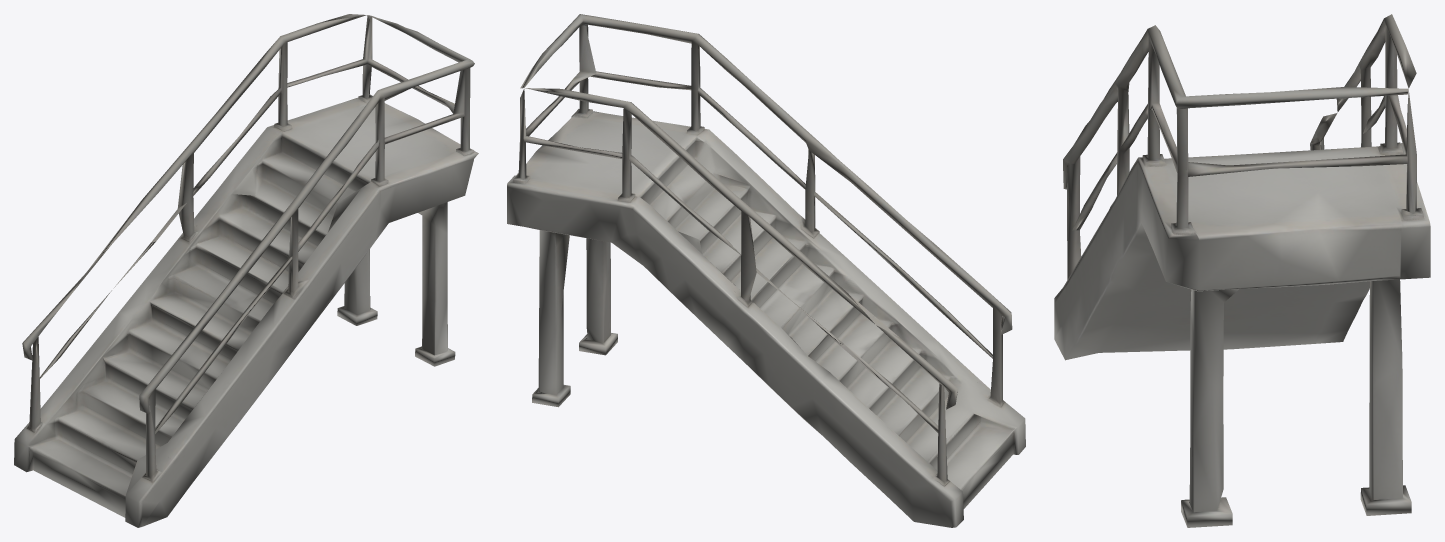
The model's file is ENV_ALL_039_v001_RAW.glb.glb.
3 renders of one model, left to right at view 1: azimuth 30°, elevation 25°; view 2: azimuth 150°, elevation 25°; view 3: azimuth 270°, elevation 25°, orthographic. The views are drawn at different scales.
Visible parts, largest first — view 1: tripo_node_3fb75899-23c0-4e0a-9a61-1e262775944d; view 2: tripo_node_3fb75899-23c0-4e0a-9a61-1e262775944d; view 3: tripo_node_3fb75899-23c0-4e0a-9a61-1e262775944d.
Part boxes in pixels (x1,y1,x2,y2): tripo_node_3fb75899-23c0-4e0a-9a61-1e262775944d: (14, 14, 478, 527); tripo_node_3fb75899-23c0-4e0a-9a61-1e262775944d: (507, 14, 1025, 527); tripo_node_3fb75899-23c0-4e0a-9a61-1e262775944d: (1054, 14, 1430, 527).
Bounding box in the file's own units: 0.9801 × 0.791 × 0.5306.
1 material, 1 textured.
